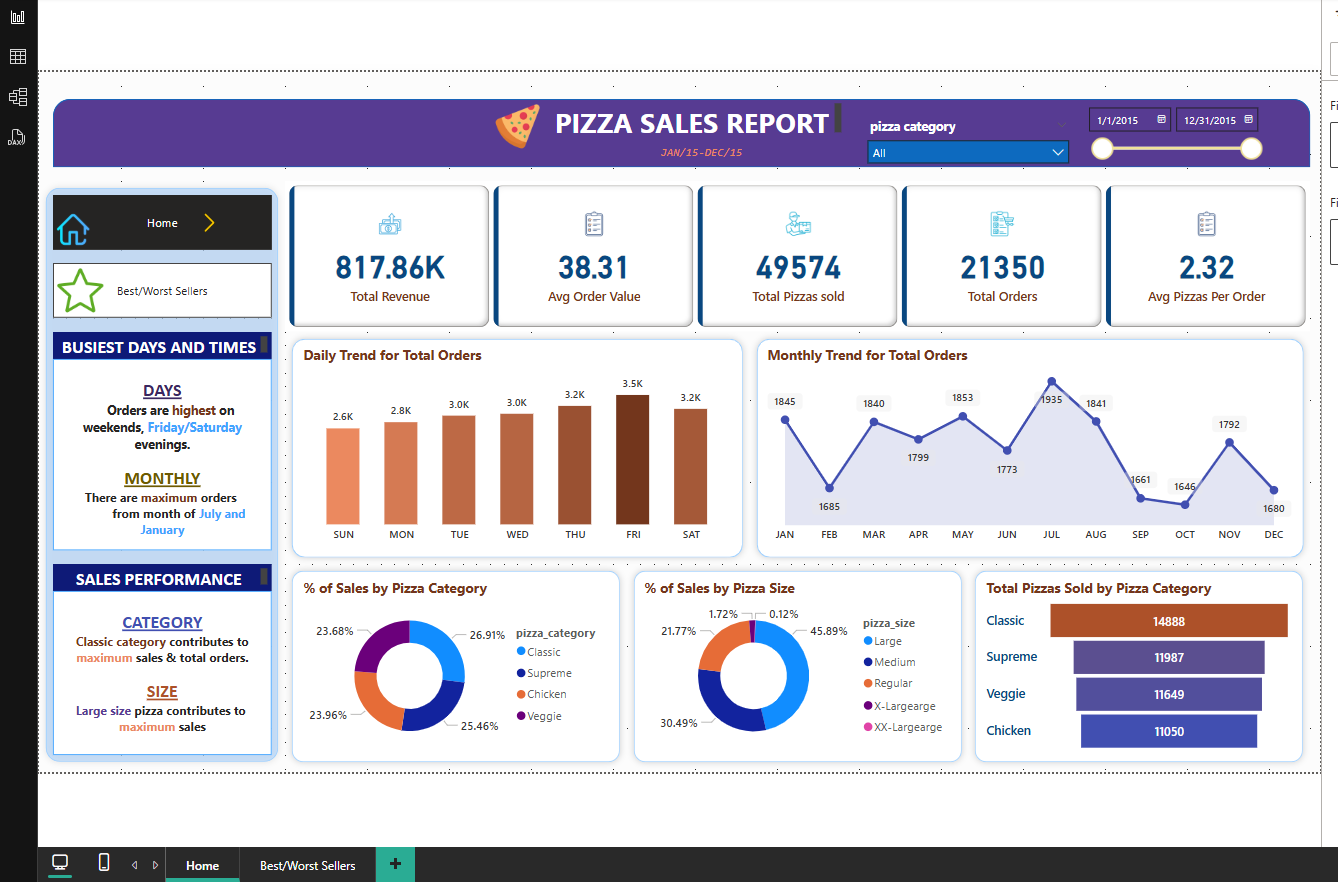

The dashboard page shown, as its layout file describes it:
{"tool":"powerbi","page":{"name":"Home","canvas":[1500,820],"ordinal":0},"visuals":[{"type":"cardVisual","fields":{"Data":["pizza pbi.Total Revenue","pizza pbi.Avg Order Value","pizza pbi.Total Pizzas sold","pizza pbi.Total Orders","pizza pbi.Avg Pizzas Per Order"]},"box":[288,128,1200,176],"z":0},{"type":"shape","box":[16,32,1472,80],"z":1000},{"type":"textbox","box":[592,32,352,48],"z":2000},{"type":"textbox","box":[656,80,240,32],"z":3000},{"type":"image","box":[496,32,128,64],"z":4000},{"type":"shape","box":[288,304,544,272],"z":5000},{"type":"columnChart","title":"Daily Trend for Total Orders","fields":{"Category":["pizza pbi.Order Day"],"Y":["pizza pbi.Total Orders"]},"box":[304,320,512,240],"z":6000},{"type":"shape","box":[832,304,656,272],"z":7000},{"type":"areaChart","title":"Monthly Trend for Total Orders","fields":{"Y":["pizza pbi.Total Orders"],"Category":["pizza pbi.Order Month"]},"box":[848,320,624,240],"z":8000},{"type":"shape","box":[288,576,400,240],"z":9000},{"type":"shape","box":[688,576,400,240],"z":10000},{"type":"shape","box":[1088,576,400,240],"z":11000},{"type":"donutChart","title":"% of Sales by Pizza Category","fields":{"Category":["pizza pbi.pizza_category"],"Y":["pizza pbi.Total Revenue"]},"box":[304,592,368,208],"z":12000},{"type":"donutChart","title":"% of Sales by Pizza Size","fields":{"Y":["pizza pbi.Total Revenue"],"Category":["pizza pbi.pizza_size"]},"box":[704,592,368,208],"z":13000},{"type":"funnel","title":"Total Pizzas Sold by Pizza Category","fields":{"Category":["pizza pbi.pizza_category"],"Y":["pizza pbi.Total Pizzas sold"]},"box":[1104,592,368,208],"z":14000},{"type":"shape","box":[0,128,288,688],"z":15000},{"type":"textbox","box":[16,304,256,32],"z":16000},{"type":"textbox","box":[16,336,256,224],"z":17000},{"type":"textbox","box":[16,576,256,32],"z":18000},{"type":"textbox","box":[16,608,256,192],"z":19000},{"type":"slicer","fields":{"Values":["pizza pbi.pizza_category"]},"box":[960,48,256,64],"z":20000},{"type":"slicer","fields":{"Values":["pizza pbi.order_date"]},"box":[1216,32,224,80],"z":21000},{"type":"pageNavigator","box":[16,144,256,64],"z":22000},{"type":"pageNavigator","box":[16,224,256,64],"z":23000},{"type":"image","box":[128,160,144,32],"z":24000},{"type":"image","box":[0,160,80,48],"z":25000},{"type":"image","box":[16,224,64,64],"z":26000}]}

Visuals, with their boxes on the page's 1500x820 design canvas (x1, y1, x2, y2). These are canvas units, not pixel positions in the 1338x882 screenshot, which may show the page scaled, cropped or inside an application window:
cardVisual - pizza pbi.Total Revenue x pizza pbi.Avg Order Value: (288,128,1488,304)
shape: (16,32,1488,112)
textbox: (592,32,944,80)
textbox: (656,80,896,112)
image: (496,32,624,96)
shape: (288,304,832,576)
"Daily Trend for Total Orders" columnChart: (304,320,816,560)
shape: (832,304,1488,576)
"Monthly Trend for Total Orders" areaChart: (848,320,1472,560)
shape: (288,576,688,816)
shape: (688,576,1088,816)
shape: (1088,576,1488,816)
"% of Sales by Pizza Category" donutChart: (304,592,672,800)
"% of Sales by Pizza Size" donutChart: (704,592,1072,800)
"Total Pizzas Sold by Pizza Category" funnel: (1104,592,1472,800)
shape: (0,128,288,816)
textbox: (16,304,272,336)
textbox: (16,336,272,560)
textbox: (16,576,272,608)
textbox: (16,608,272,800)
slicer - pizza pbi.pizza_category: (960,48,1216,112)
slicer - pizza pbi.order_date: (1216,32,1440,112)
pageNavigator: (16,144,272,208)
pageNavigator: (16,224,272,288)
image: (128,160,272,192)
image: (0,160,80,208)
image: (16,224,80,288)
